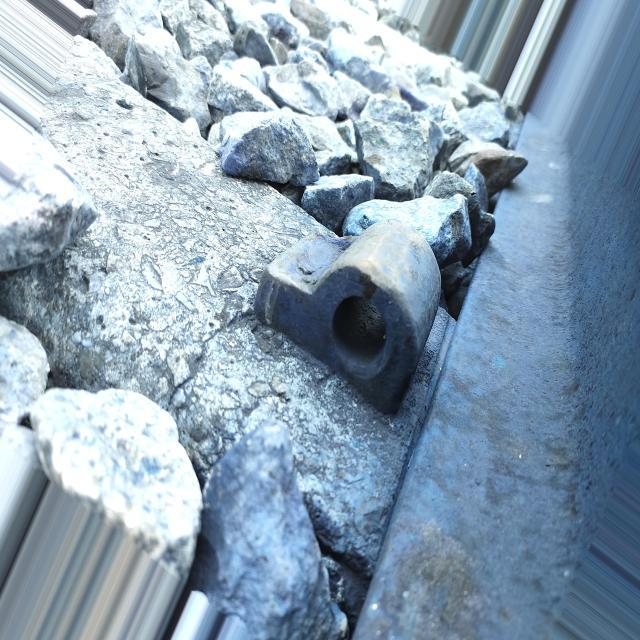Missing Fastener: (214, 211, 443, 421)
